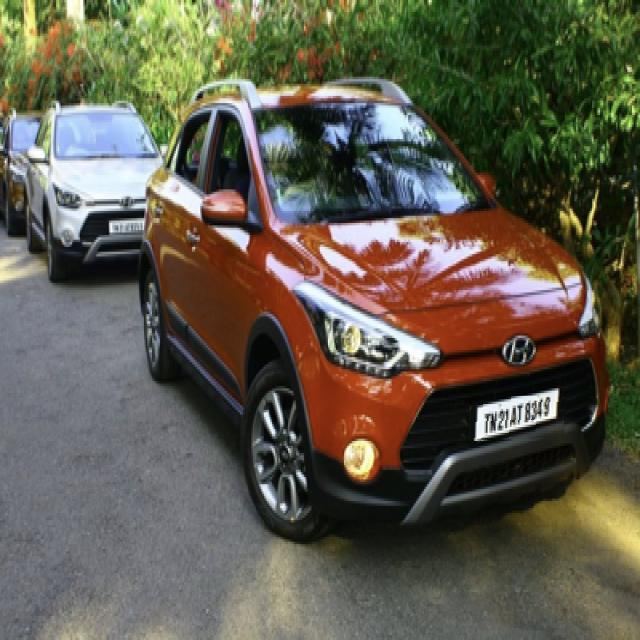licence: (471, 396, 566, 441), (106, 216, 150, 232)
